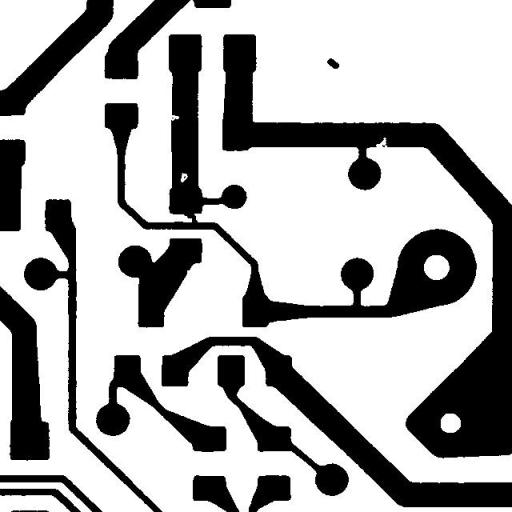copper: (320, 50, 346, 76)
mousebite: (368, 130, 394, 155), (158, 107, 186, 129)
pin-hole: (173, 164, 195, 190)
short: (175, 203, 205, 231)
